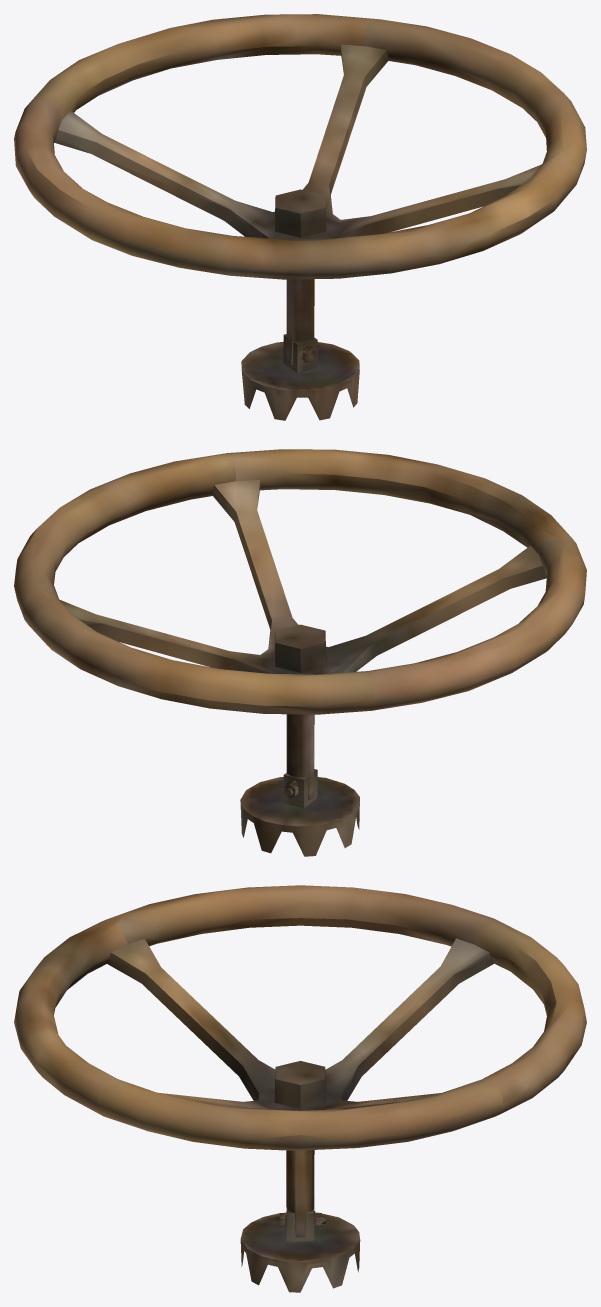
The model's file is valve-handwheel.lod1.glb.
3 renders of one model, top to bottom at view 1: azimuth 30°, elevation 25°; view 2: azimuth 150°, elevation 25°; view 3: azimuth 270°, elevation 25°, orthographic.
Visible parts, largest first — view 1: valve-handwheel; view 2: valve-handwheel; view 3: valve-handwheel.
Boxes of the visible parts, x1,y1,x2,y2 form: valve-handwheel: (14, 14, 586, 420); valve-handwheel: (14, 449, 586, 856); valve-handwheel: (14, 885, 586, 1292).
Bounding box in the file's own units: 0.5454 × 0.2813 × 0.5454.
1 material, 1 textured.
